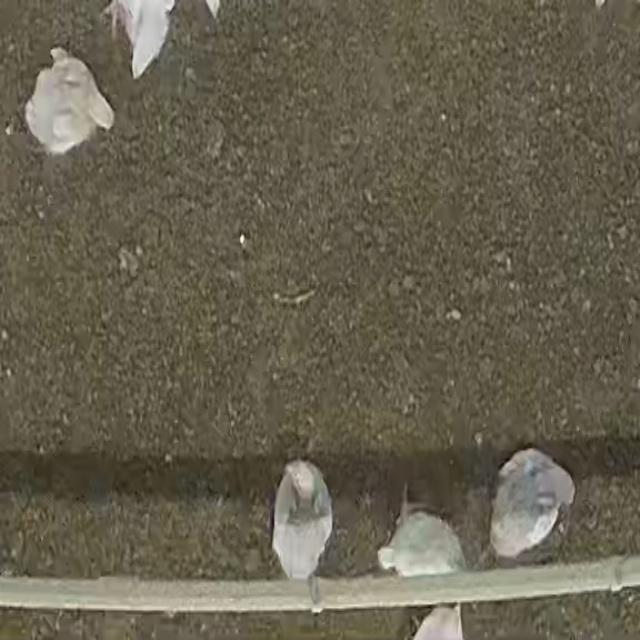chicken: (485, 444, 574, 558), (27, 50, 112, 159), (275, 455, 331, 579), (379, 508, 464, 585), (111, 0, 175, 81)
